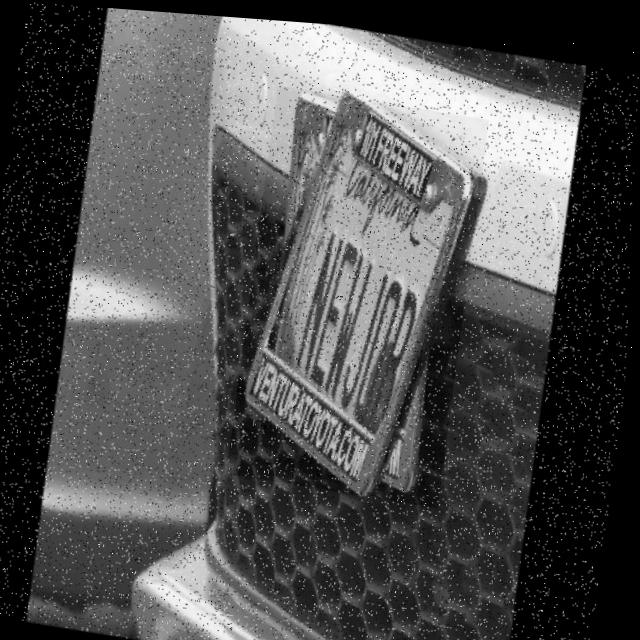LicensePlate: (229, 79, 490, 502)
